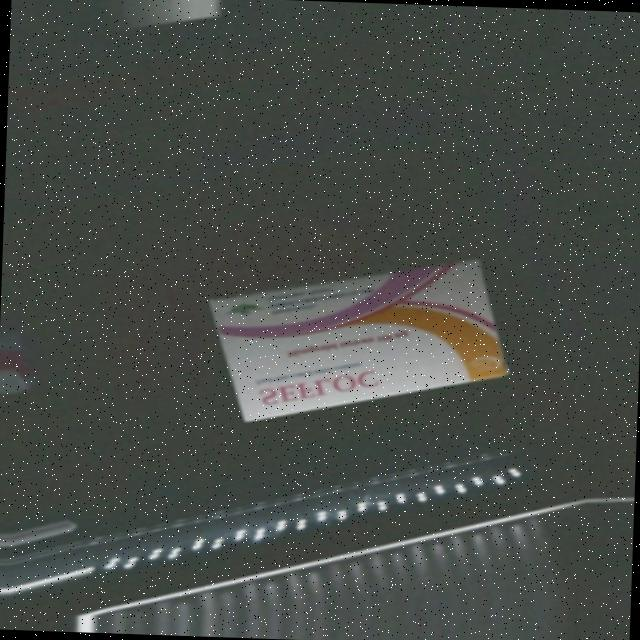medicine_name_detection: (207, 249, 513, 426)
